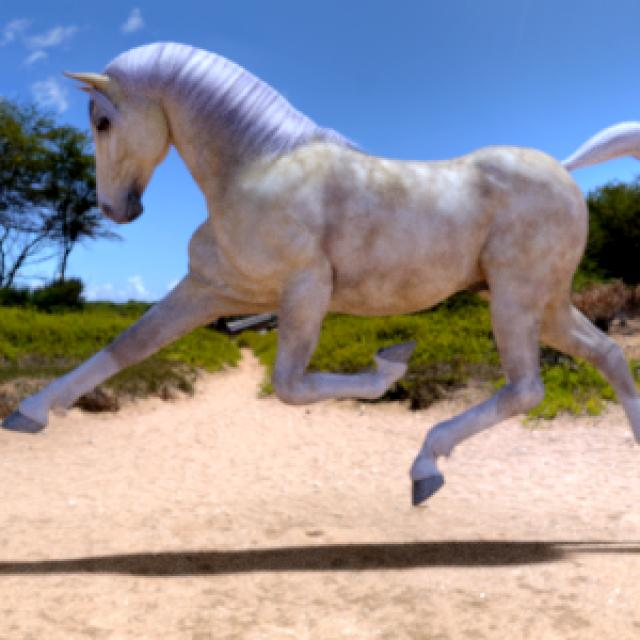horse: (4, 44, 640, 501)
